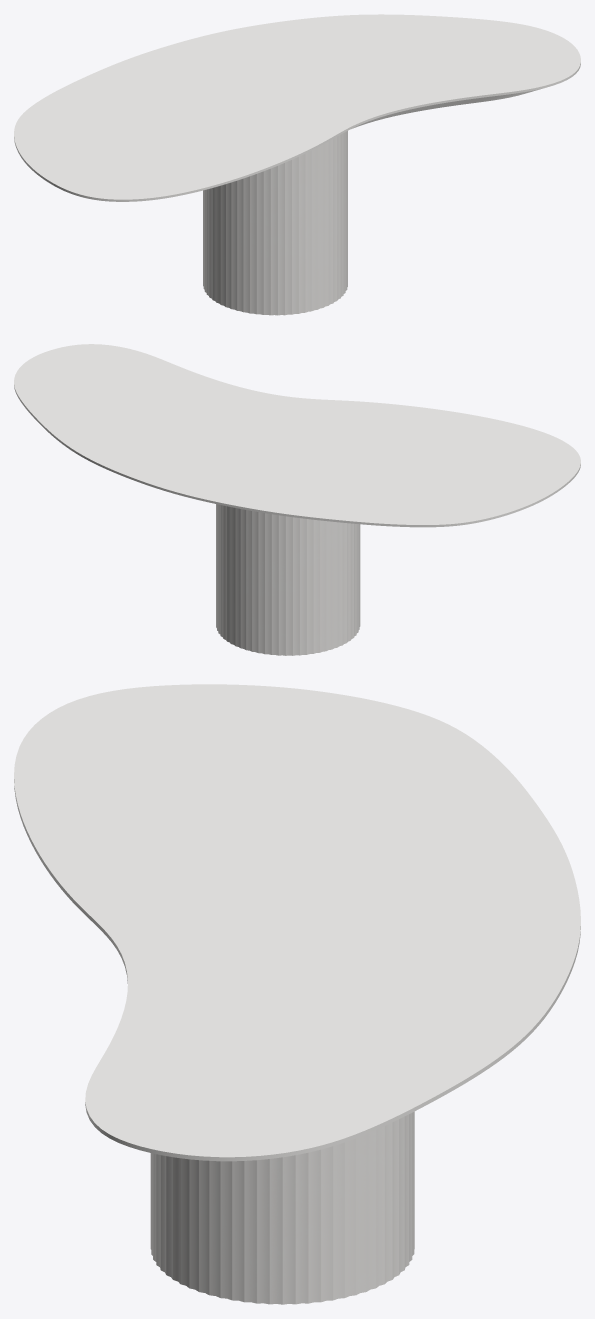
The model's file is purewhite_leaf1_facet_ripple.glb.
3 renders of one model, top to bottom at view 1: azimuth 30°, elevation 25°; view 2: azimuth 150°, elevation 25°; view 3: azimuth 270°, elevation 25°, orthographic. The views are drawn at different scales.
Parts seen in each view (by area): view 1: facet_leaf1, ripple; view 2: facet_leaf1, ripple; view 3: facet_leaf1, ripple.
Part boxes in pixels (x1,y1,x2,y2): facet_leaf1: (14, 14, 580, 201); ripple: (203, 131, 347, 315); facet_leaf1: (14, 344, 580, 527); ripple: (216, 504, 360, 655); facet_leaf1: (14, 684, 580, 1161); ripple: (150, 1111, 414, 1304).
Bounding box in the file's own units: 7.5 × 2.5 × 3.8.
Materials: 1 (1 with a texture image).
